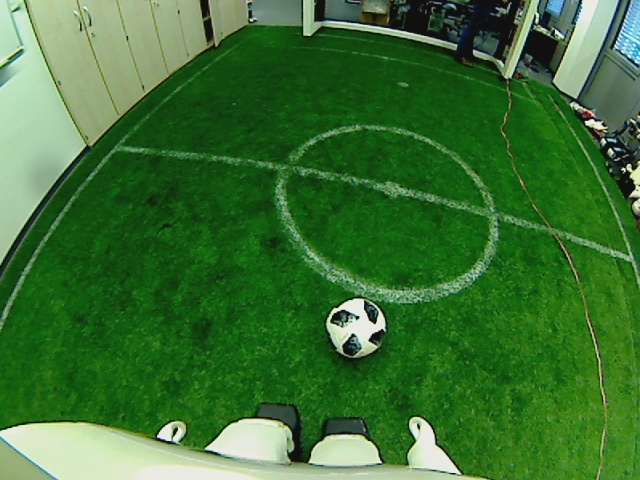ball: (324, 293, 387, 358)
